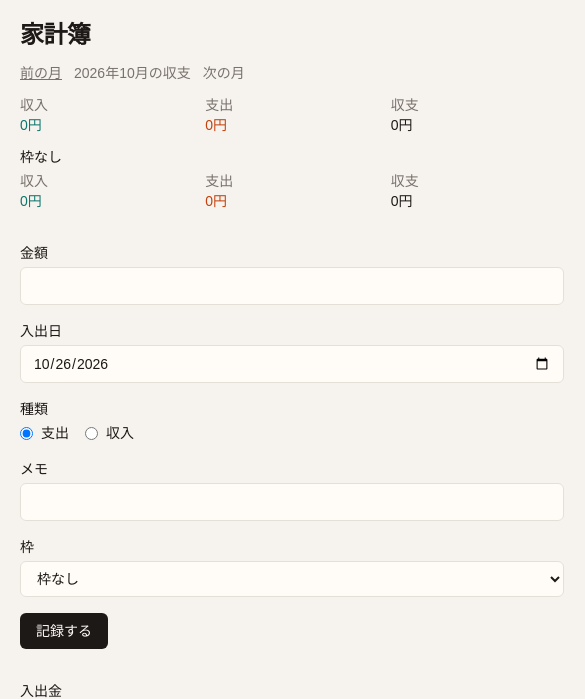
Test: 消した入出金を戻せる
This screenshot has width=585, height=699.
In the field labelled "金額": point(292, 286) [20,267,564,305], type "5000"
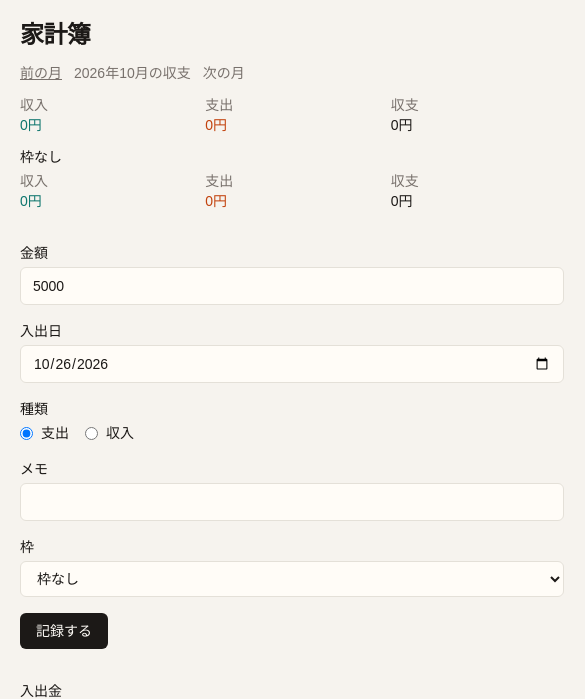
Click the button "記録する": point(64, 631) [20,613,108,649]
(page scrolled)
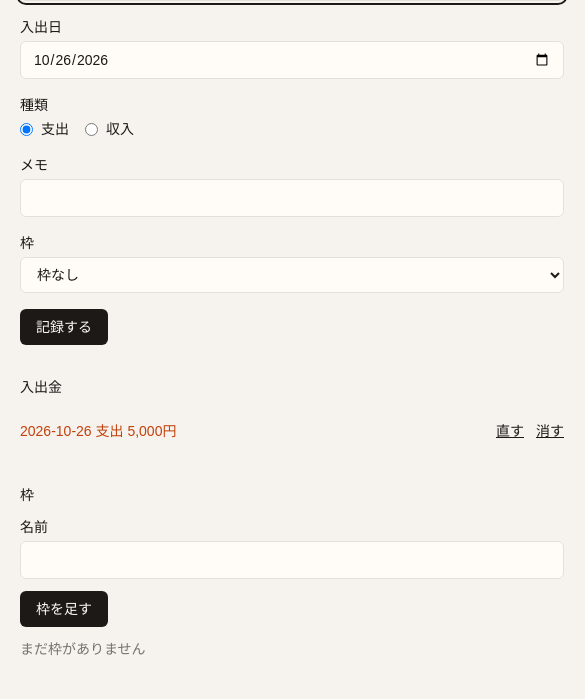
Click the button "消す": point(550, 431) [536,421,564,441]
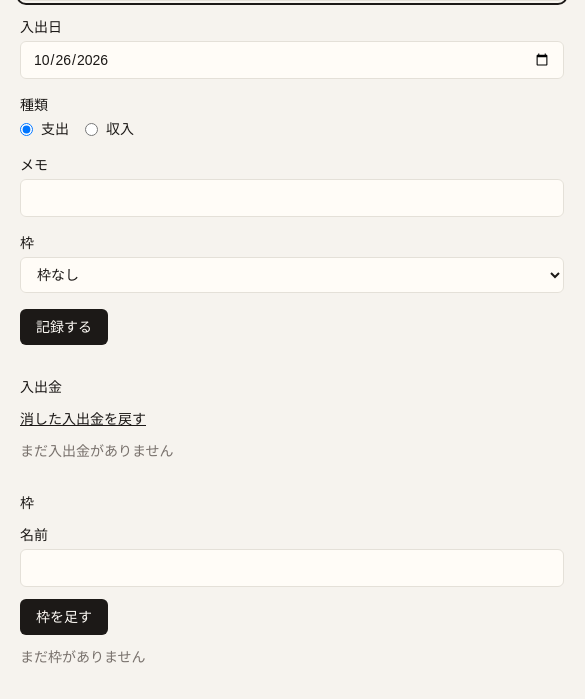
Click the button "消した入出金を戻す": point(83, 419) [20,409,146,429]
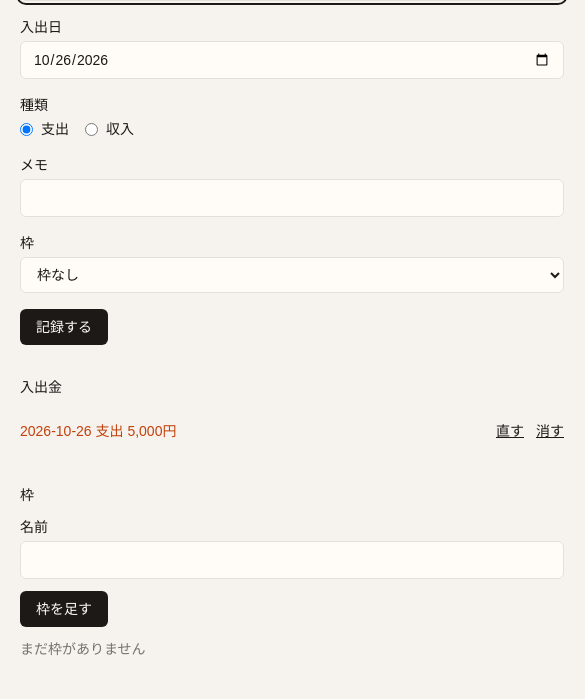
expect the button "消した入出金を戻す" is gone: met
